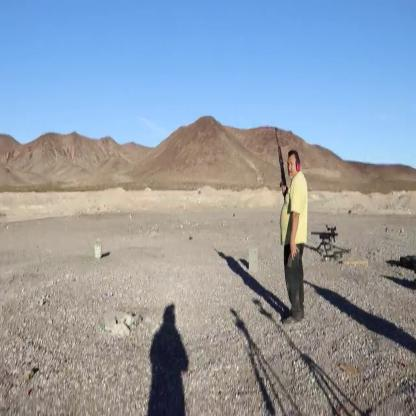long weapon: (268, 118, 288, 206), (311, 218, 340, 256)
